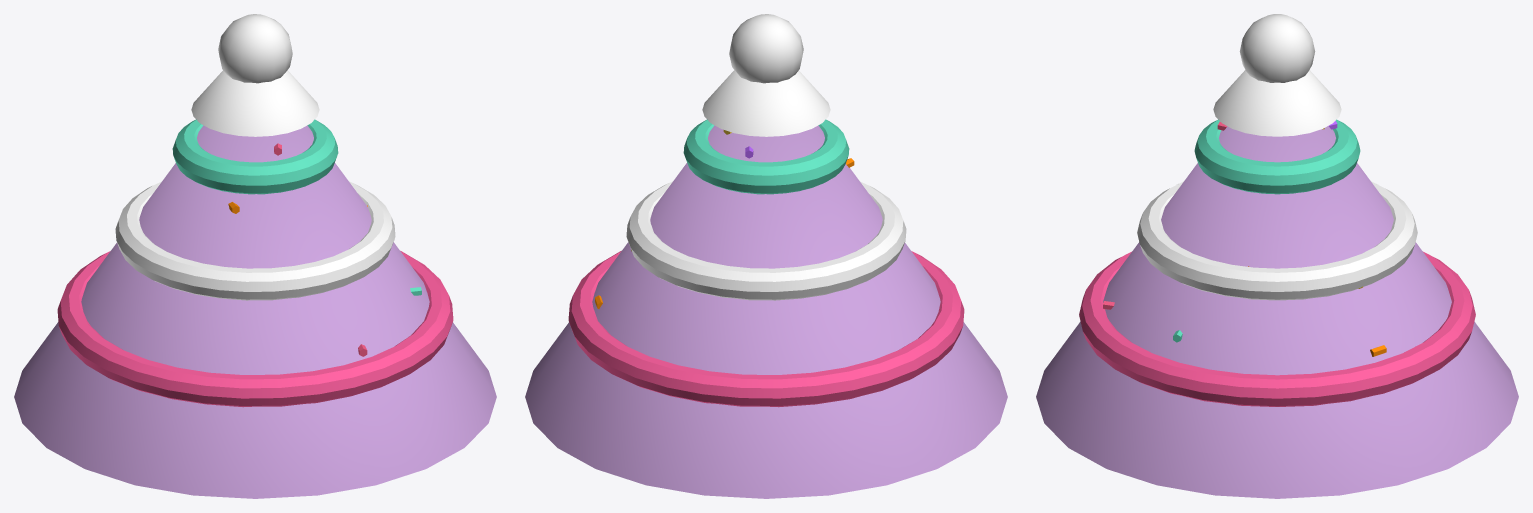
File: candy_mountain.glb
3 renders of one model, left to right at view 1: azimuth 30°, elevation 25°; view 2: azimuth 150°, elevation 25°; view 3: azimuth 270°, elevation 25°, orthographic.
Parts seen in each view (by area): view 1: Mountain, Band, Band.001, Band.002, SnowCap, SnowBall; view 2: Mountain, Band, Band.001, Band.002, SnowCap, SnowBall; view 3: Mountain, Band, Band.001, Band.002, SnowCap, SnowBall.
Boxes of the visible parts, x1=… form: Mountain: x1=14, y1=125, x2=496, y2=498; Band: x1=57, y1=251, x2=453, y2=407; Band.001: x1=115, y1=181, x2=395, y2=300; Band.002: x1=172, y1=119, x2=338, y2=194; SnowCap: x1=191, y1=70, x2=319, y2=136; SnowBall: x1=218, y1=14, x2=292, y2=83; Mountain: x1=525, y1=125, x2=1007, y2=498; Band: x1=568, y1=251, x2=964, y2=407; Band.001: x1=626, y1=181, x2=906, y2=300; Band.002: x1=683, y1=119, x2=849, y2=194; SnowCap: x1=702, y1=70, x2=830, y2=136; SnowBall: x1=729, y1=14, x2=803, y2=83; Mountain: x1=1036, y1=126, x2=1518, y2=498; Band: x1=1079, y1=251, x2=1475, y2=406; Band.001: x1=1137, y1=181, x2=1417, y2=300; Band.002: x1=1194, y1=119, x2=1360, y2=194; SnowCap: x1=1213, y1=70, x2=1341, y2=136; SnowBall: x1=1239, y1=14, x2=1315, y2=82.
Size of the model in its own units: 6.4 by 5.55 by 6.4.
